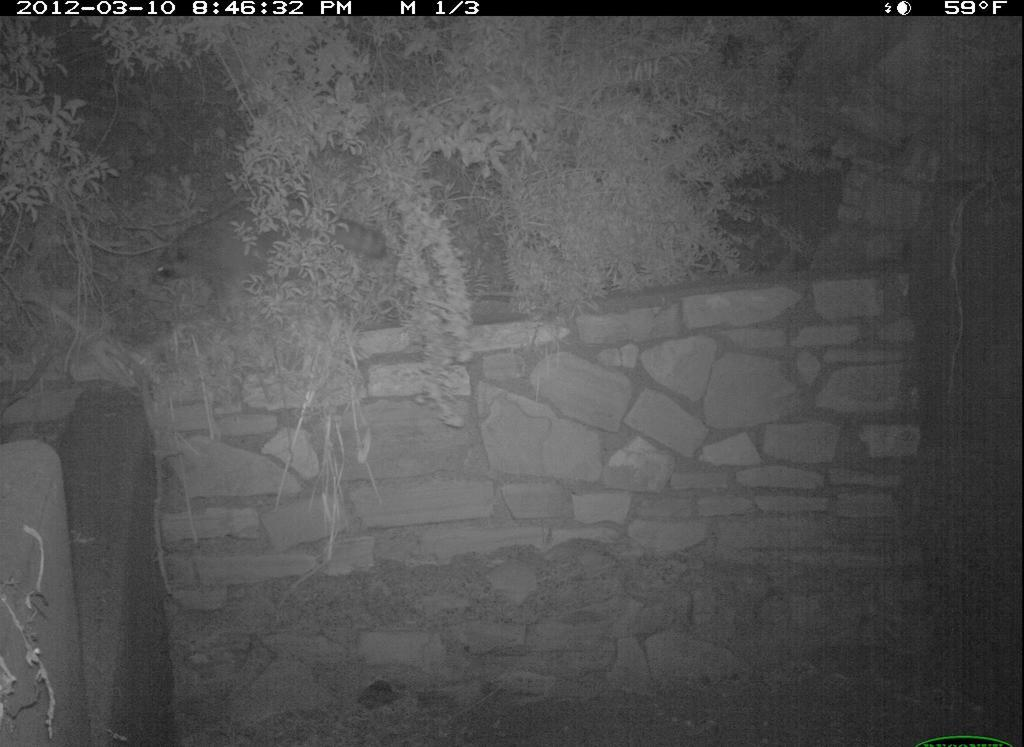raccoon: (141, 178, 406, 349)
